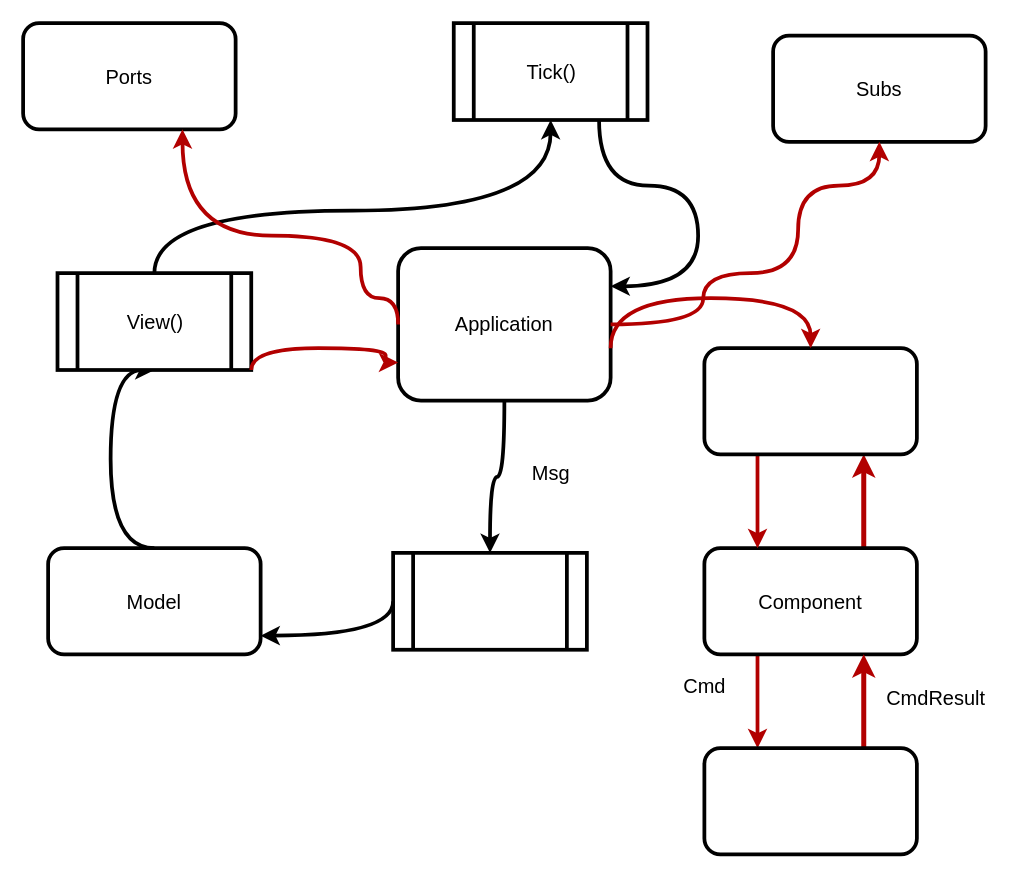
This 1014x878 diagram has some shape labels left out. Here are the shapes that lost their labels. From the top down, the centre of each, then its label:
[810,401]: View
[489,600]: Update()
[810,801]: MockComponent
